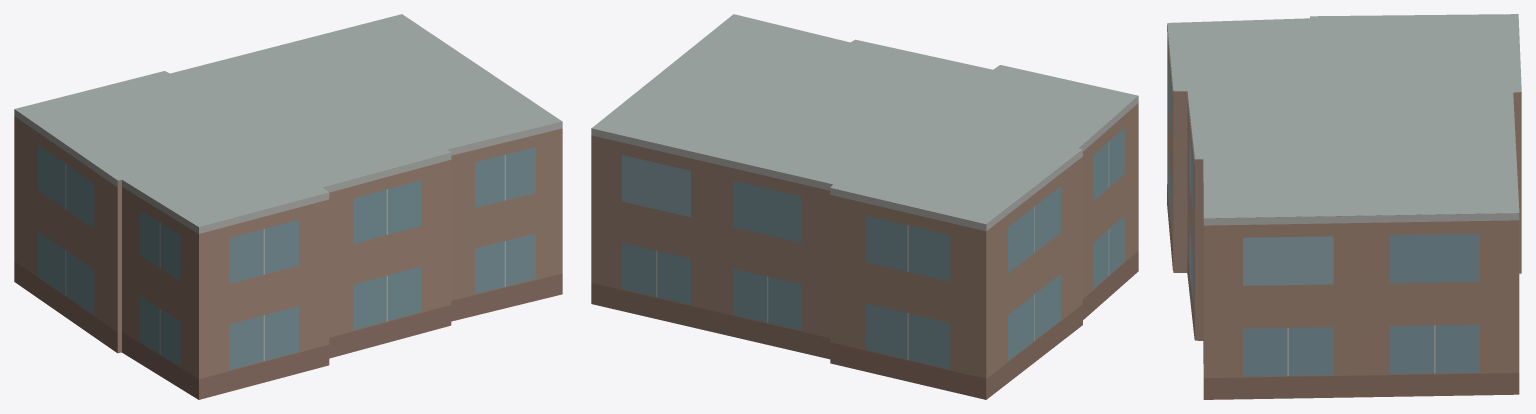
Rendered from survey-upis-32652749.glb.
The picture shows the model from 3 angles, left to right: view 1: azimuth 30°, elevation 25°; view 2: azimuth 150°, elevation 25°; view 3: azimuth 270°, elevation 25°; orthographic projection. The views are drawn at different scales.
Visible parts, largest first — view 1: survey-upis-32652749.tmp; view 2: survey-upis-32652749.tmp; view 3: survey-upis-32652749.tmp.
Boxes of the visible parts, box(x1,y1,x2,y2) form: survey-upis-32652749.tmp: box(14, 14, 562, 399); survey-upis-32652749.tmp: box(591, 14, 1138, 399); survey-upis-32652749.tmp: box(1167, 14, 1521, 399).
Bounding box in the file's own units: 14.73 × 6.1 × 10.81.
